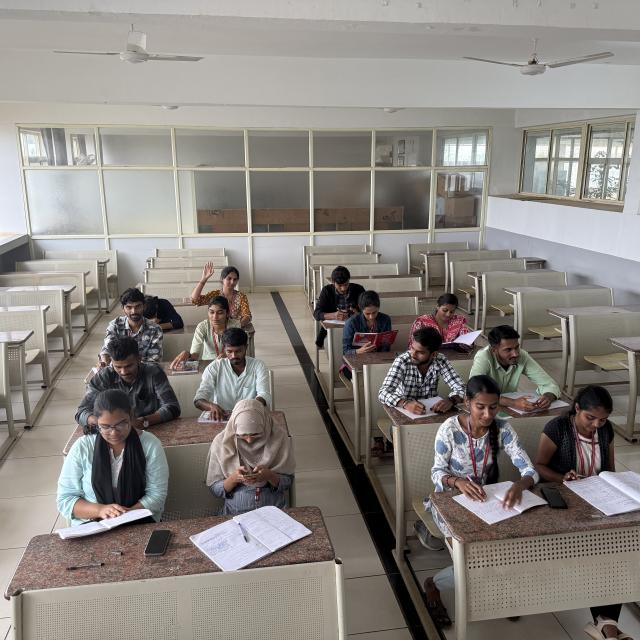Hand Rising: (189, 257, 255, 325)
Reading: (57, 393, 176, 526), (537, 385, 636, 498), (410, 288, 484, 350), (347, 289, 400, 354)
Sleeping: (128, 290, 190, 332)
Using Phone: (197, 394, 302, 510), (69, 334, 185, 434), (311, 264, 372, 330)
Writing: (443, 377, 528, 504), (386, 329, 468, 415), (93, 289, 159, 369)
